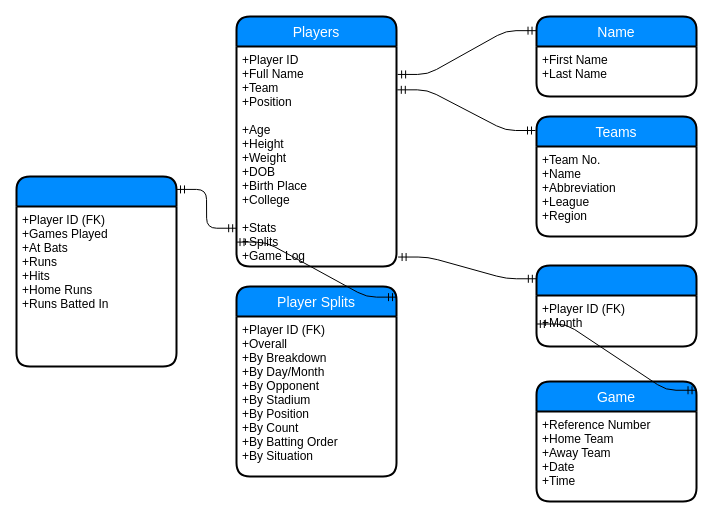
The diagram is 713 pixels wide and 518 high, and some of its shapes have lost their labels. Here are the shapes that lost their labels. From the top down, the box of each, then its label:
(15, 175, 177, 367): Player Stats
(535, 264, 697, 347): Player Game Log
